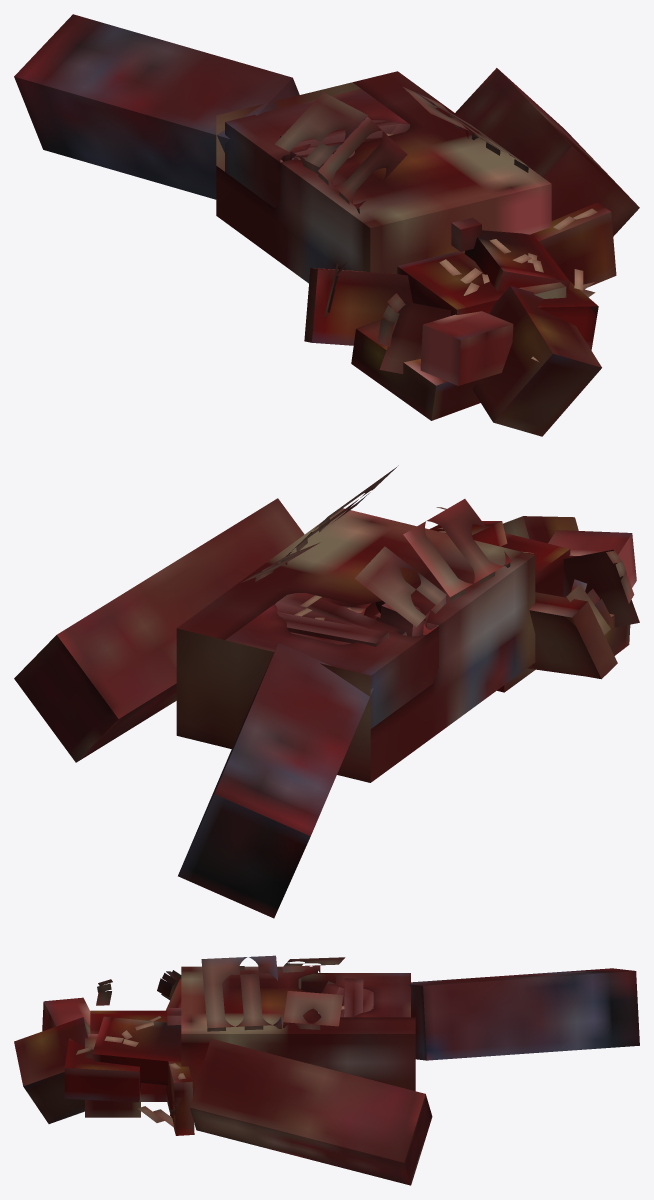
File: lying_3.obj
3 renders of one model, top to bottom at view 1: azimuth 30°, elevation 25°; view 2: azimuth 150°, elevation 25°; view 3: azimuth 270°, elevation 25°, orthographic. The views are drawn at different scales.
Parts seen in each view (by area): view 1: Body; view 2: Body; view 3: Body.
Boxes of the visible parts, <box> form: Body: <box>14,14,639,436</box>; Body: <box>14,465,639,918</box>; Body: <box>14,955,639,1185</box>.
Bounding box in the file's own units: 1.21 × 0.6481 × 2.09.
